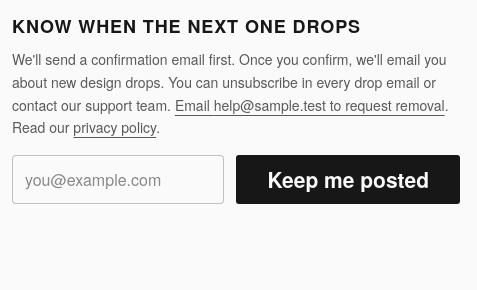
Test case: DropSignupForm › passes the server's own refusal through rather than inventing one
Type "shopper@example.com" into the field labelled "Know when the next one drops" at (118, 180), box [12,155,224,204]
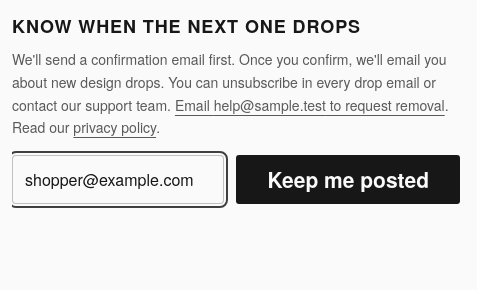
Click the button "Keep me posted" at (348, 180), box [236,155,460,204]
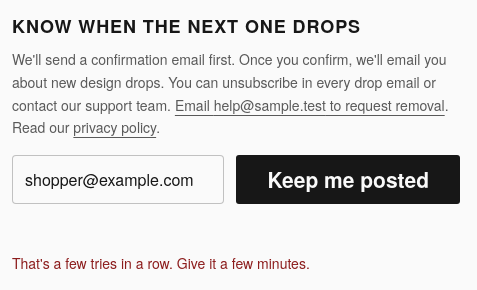
expect the message "That's a few tries in a row. Give it a few minutes." is shown: met, box [12,253,310,273]
